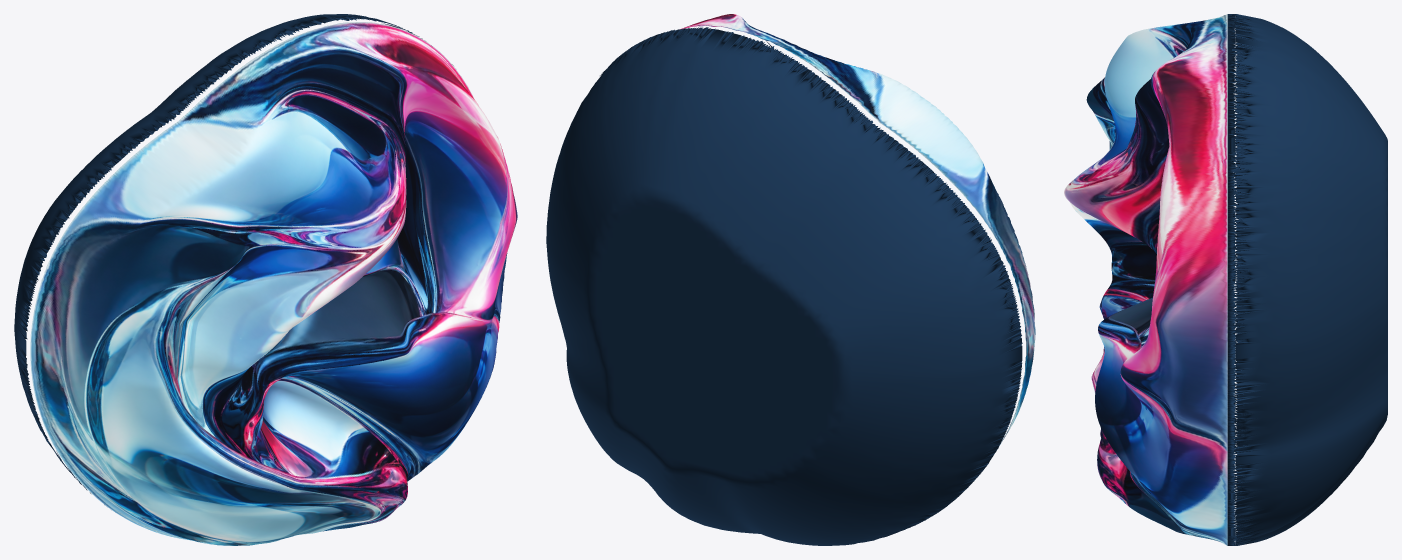
The model's file is reference-sculpture.glb.
3 renders of one model, left to right at view 1: azimuth 30°, elevation 25°; view 2: azimuth 150°, elevation 25°; view 3: azimuth 270°, elevation 25°, orthographic. The views are drawn at different scales.
Parts seen in each view (by area): view 1: AERON reference-matched sculpture; view 2: AERON reference-matched sculpture; view 3: AERON reference-matched sculpture.
Boxes of the visible parts, x1=… form: AERON reference-matched sculpture: x1=14, y1=14, x2=517, y2=545; AERON reference-matched sculpture: x1=546, y1=14, x2=1035, y2=545; AERON reference-matched sculpture: x1=1064, y1=14, x2=1387, y2=545.
Bounding box in the file's own units: 3.32 × 3.34 × 1.95.
2 materials, 1 textured.
